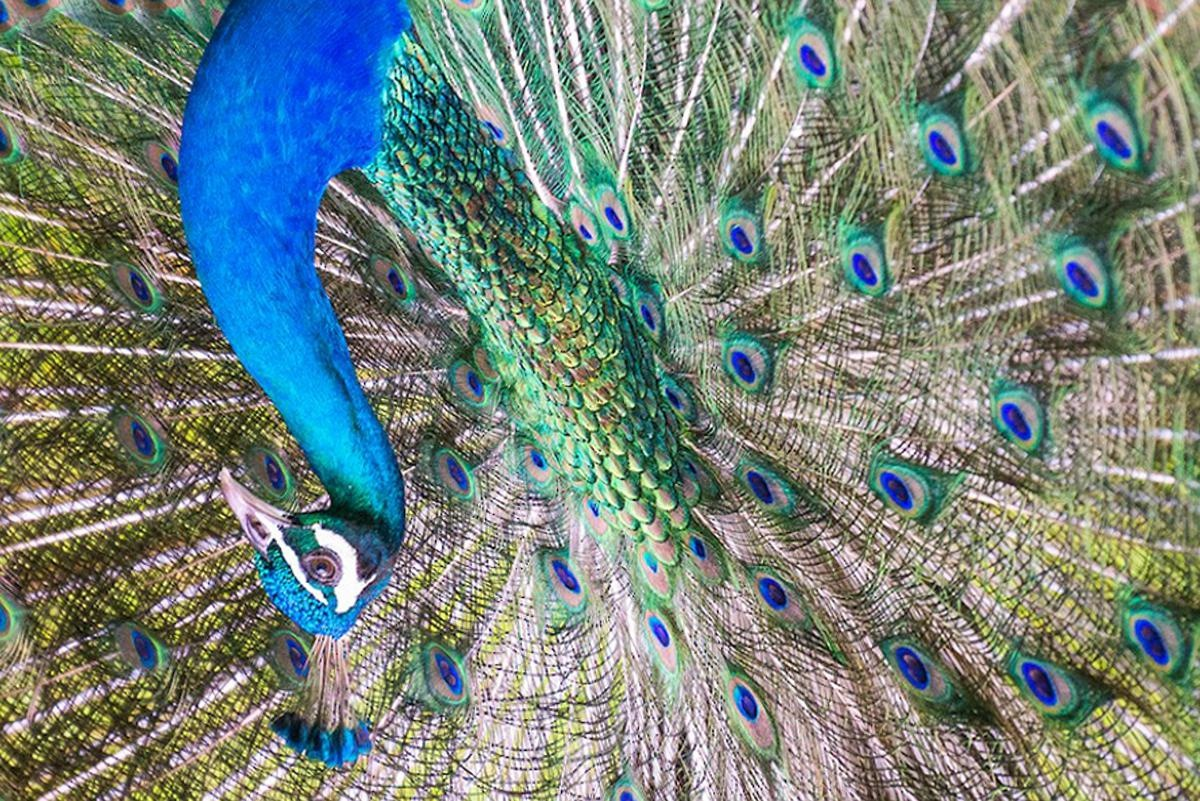peacock: (156, 1, 1170, 738)
